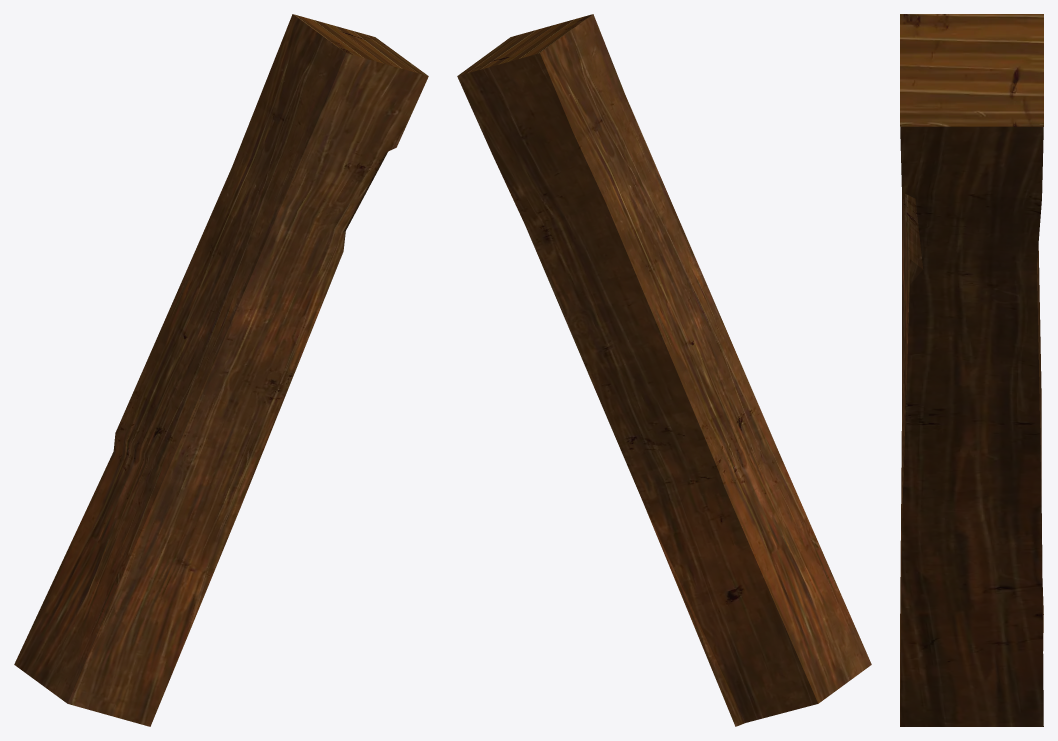
The picture shows the model from 3 angles, left to right: view 1: azimuth 30°, elevation 25°; view 2: azimuth 150°, elevation 25°; view 3: azimuth 270°, elevation 25°; orthographic projection. The views are drawn at different scales.
Parts seen in each view (by area): view 1: SM_BB_T2_BeamThick_Steep_LOD0; view 2: SM_BB_T2_BeamThick_Steep_LOD0; view 3: SM_BB_T2_BeamThick_Steep_LOD0.
Part boxes in pixels (x1,y1,x2,y2): SM_BB_T2_BeamThick_Steep_LOD0: [14, 14, 428, 726]; SM_BB_T2_BeamThick_Steep_LOD0: [457, 14, 871, 726]; SM_BB_T2_BeamThick_Steep_LOD0: [900, 14, 1043, 726].
Size of the model in its own units: 1.95 by 3.23 by 0.5.
1 material, 1 textured.
